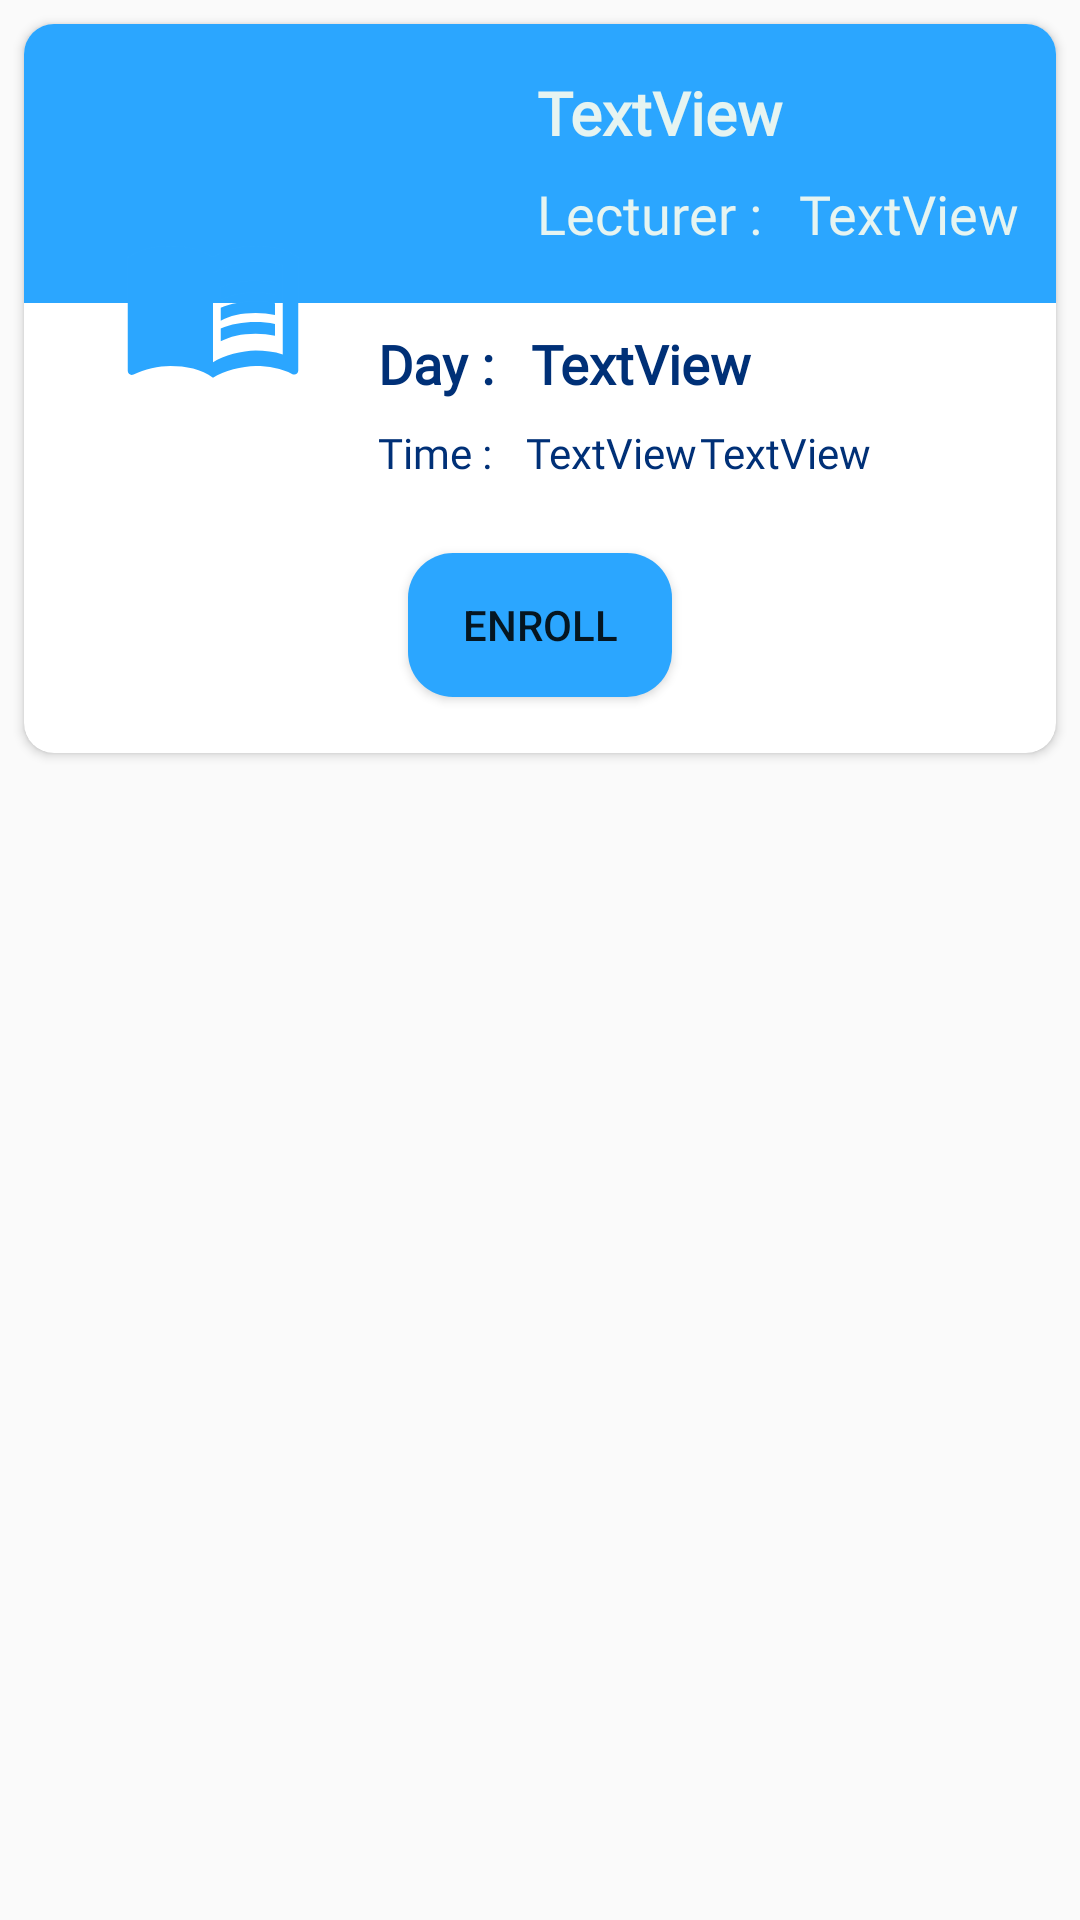

Point at icon controls on the screen. Image size 1080x1920, points as point (x, y).
book: point (213, 303)
